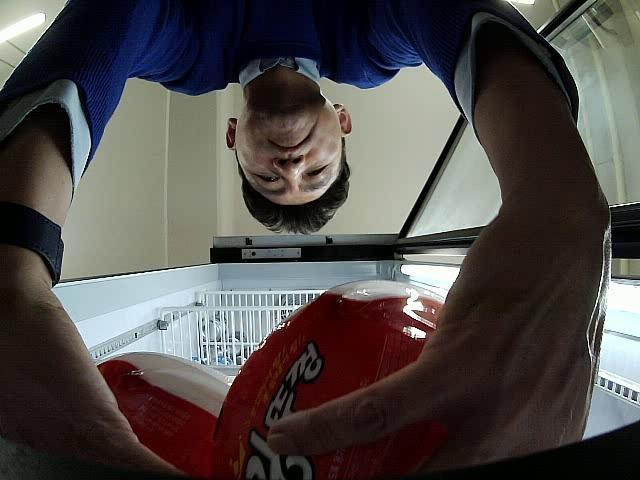10_wangTtukkeong: (212, 281, 451, 480), (97, 352, 230, 480)
